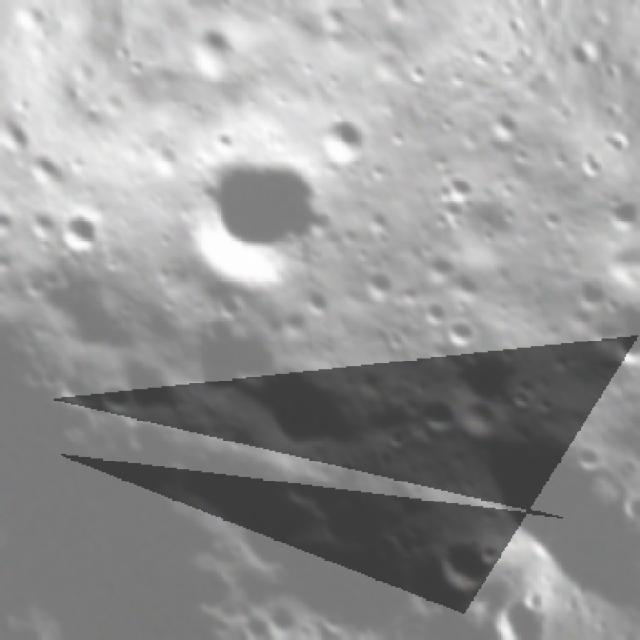crater: (160, 128, 349, 317), (429, 391, 613, 574), (223, 350, 365, 492), (152, 288, 291, 427), (417, 521, 509, 613), (304, 103, 387, 186), (171, 15, 252, 97), (40, 202, 115, 278), (397, 380, 466, 449), (84, 368, 147, 432), (422, 156, 486, 219), (558, 266, 618, 326), (584, 174, 640, 237), (408, 241, 466, 299), (434, 308, 492, 364), (474, 100, 529, 155), (601, 319, 640, 377), (223, 601, 279, 640), (407, 290, 450, 333)
